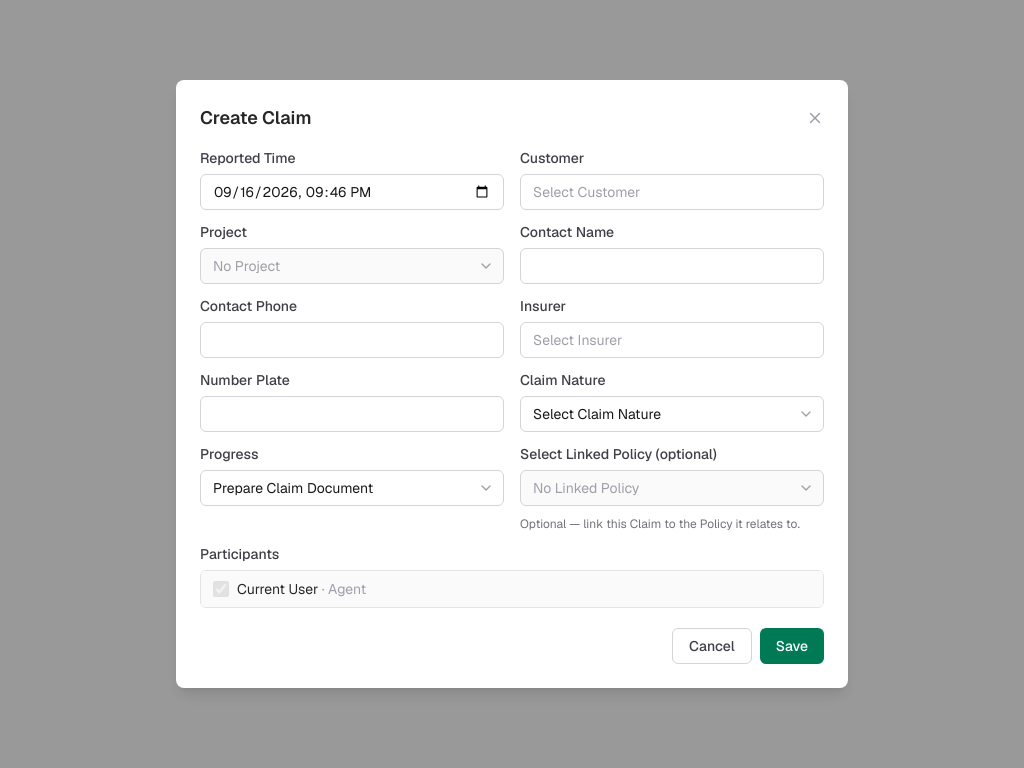
Scenario: MotorClaimFormModal — Customer SearchableSelect › Case 9: shows 'No customers found' when nothing matches
In the field with placeholder "Select Customer": (672, 192) [520, 174, 824, 210], type "nonexistent customer xyz"
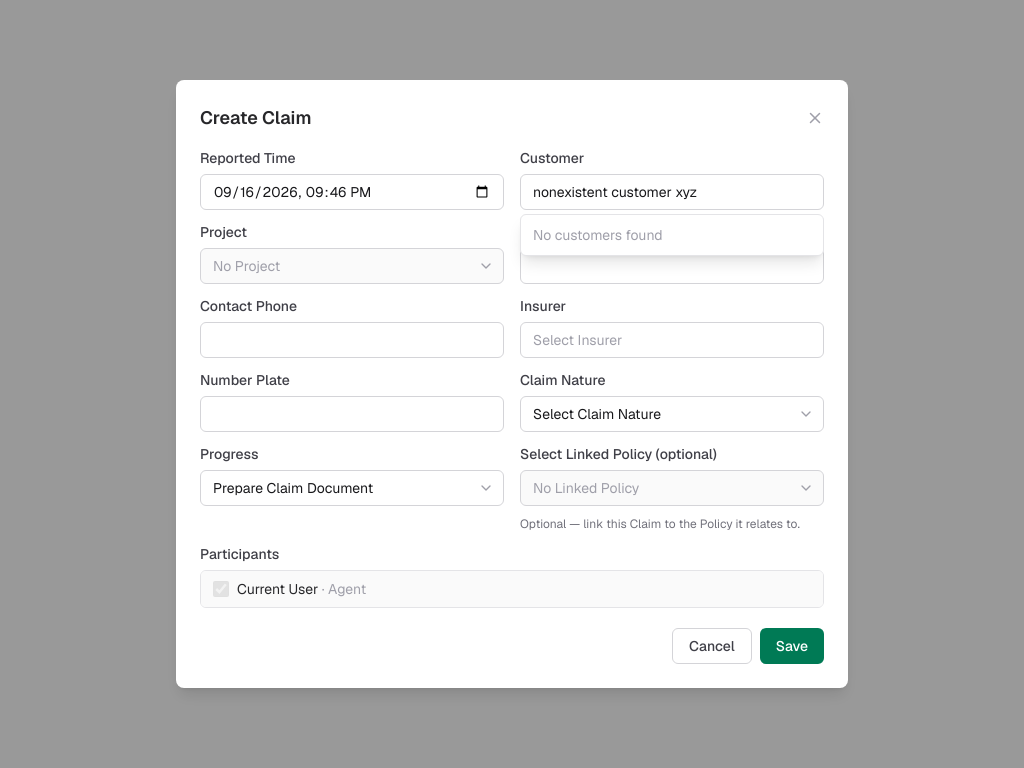
Expected: the list item "No customers found" is shown, [533, 226, 663, 244]
